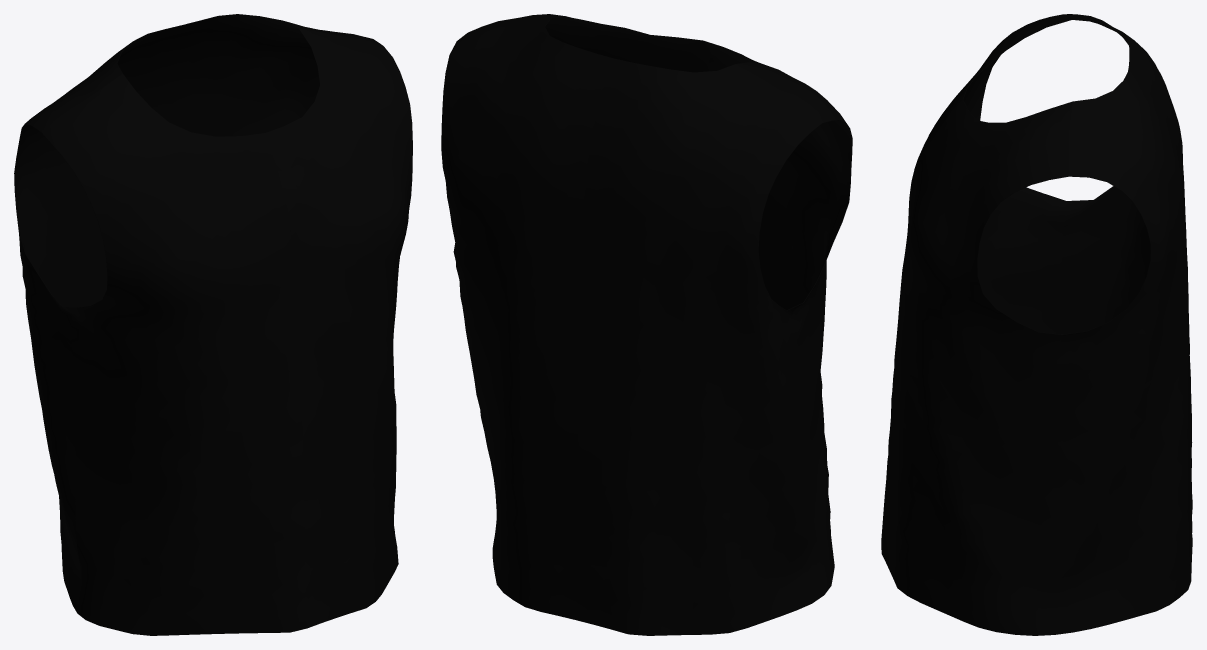
Rendered from maykaMale.glb.
The picture shows the model from 3 angles, left to right: view 1: azimuth 30°, elevation 25°; view 2: azimuth 150°, elevation 25°; view 3: azimuth 270°, elevation 25°; orthographic projection. The views are drawn at different scales.
Parts seen in each view (by area): view 1: mayka; view 2: mayka; view 3: mayka.
Part boxes in pixels (box(x1,y1,x2,y2)): mayka: box(14, 14, 412, 635); mayka: box(441, 14, 852, 635); mayka: box(881, 14, 1192, 635).
Bounding box in the file's own units: 4.43 × 6.48 × 3.57.
1 material, 1 textured.
